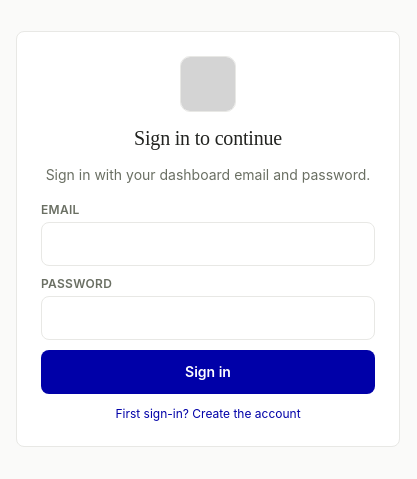
Test: AuthScreen › shows the server error and re-enables the button
Type "owner@example.com" into the field labelled "Email" at (208, 244), box x1=41 y1=222 x2=375 y2=266
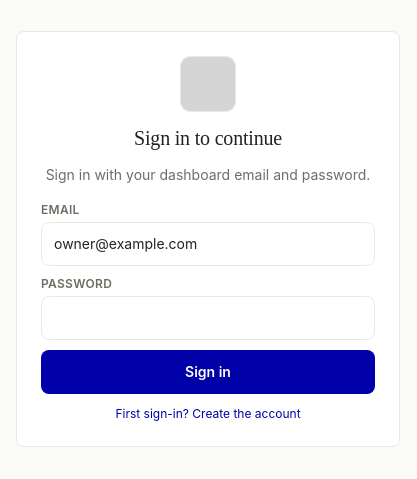
Type "password-123" into the password field labelled "Password" at (208, 318), box x1=41 y1=296 x2=375 y2=340
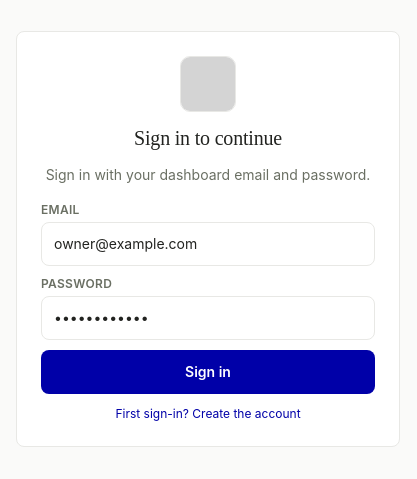
Click the button "Sign in" at (208, 372), box x1=41 y1=350 x2=375 y2=394
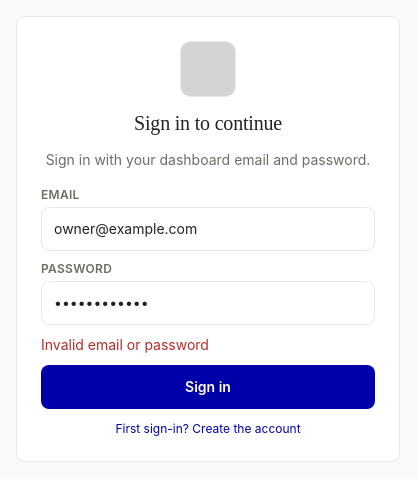
Expected: the button "Sign in" is enabled, x1=41 y1=365 x2=375 y2=409
Expected: the message reads "Invalid email or password", x1=41 y1=336 x2=209 y2=353
